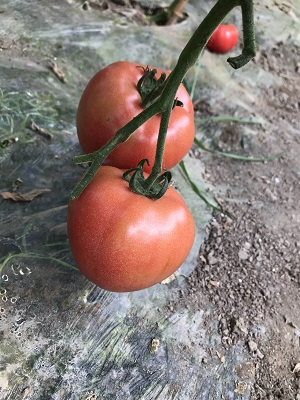mature-tomato: (68, 169, 195, 292), (77, 61, 195, 174), (207, 21, 237, 53)
